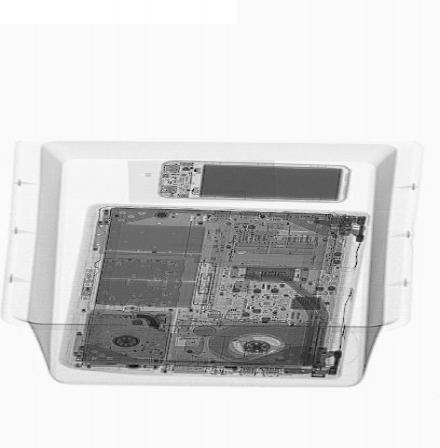Powerbank: (155, 160, 355, 204)
